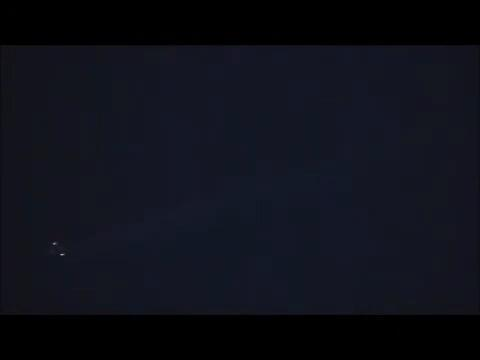Plane: (33, 233, 82, 262)
